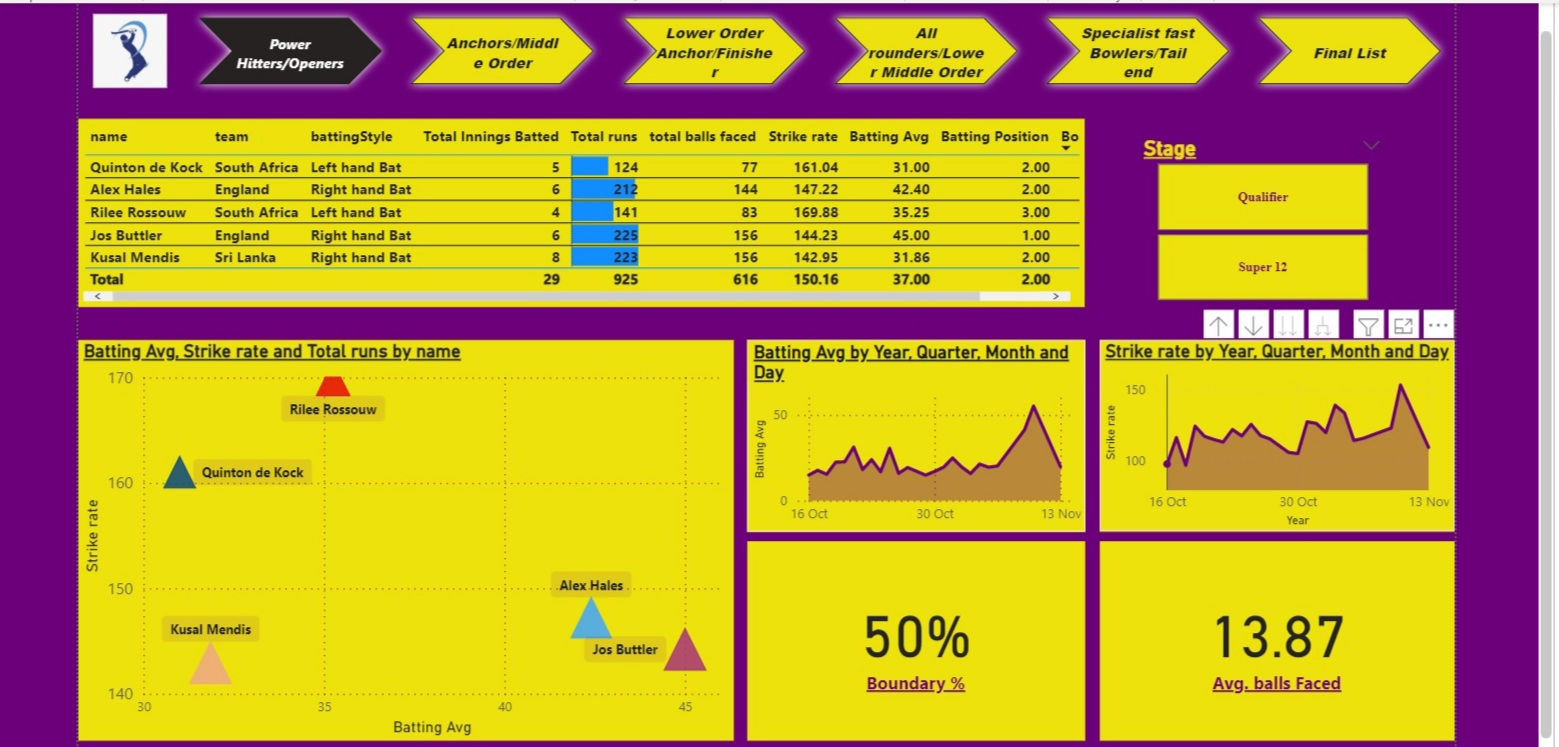

The dashboard page shown, as its layout file describes it:
{"tool":"powerbi","page":{"name":"Power Hitters/Openers","canvas":[1280,720],"ordinal":0},"visuals":[{"type":"tableEx","title":"Shortlisted players based on parameters","fields":{"Values":["dim_players.name","dim_players.team","dim_players.battingStyle","key_measures.Total Innings Batted","key_measures.Total runs","key_measures.total balls faced","key_measures.Strike rate","key_measures.Batting Avg","key_measures.Batting Position","key_measures.Boundary %"]},"box":[0,123.5,936.4,174.8],"z":0},{"type":"scatterChart","fields":{"Y":["key_measures.Strike rate"],"X":["key_measures.Batting Avg"],"Size":["key_measures.Total runs"],"Category":["dim_players.name"]},"box":[0,328.8,610,372.8],"z":1000},{"type":"areaChart","fields":{"Y":["key_measures.Batting Avg"],"Category":["dim_match_summary.matchDate.Variation.Date Hierarchy.Year","dim_match_summary.matchDate.Variation.Date Hierarchy.Quarter","dim_match_summary.matchDate.Variation.Date Hierarchy.Month","dim_match_summary.matchDate.Variation.Date Hierarchy.Day"]},"box":[622.2,328.8,314.2,178.5],"z":2000},{"type":"areaChart","fields":{"Y":["key_measures.Strike rate"],"Category":["dim_match_summary.matchDate.Variation.Date Hierarchy.Year","dim_match_summary.matchDate.Variation.Date Hierarchy.Quarter","dim_match_summary.matchDate.Variation.Date Hierarchy.Month","dim_match_summary.matchDate.Variation.Date Hierarchy.Day"]},"box":[949.8,328.8,330.1,178.5],"z":3000},{"type":"card","fields":{"Values":["key_measures.Boundary %"]},"box":[622.2,515.9,314.2,185.8],"z":4000},{"type":"card","fields":{"Values":["key_measures.Avg. balls Faced"]},"box":[949.8,515.9,330.1,185.8],"z":5000},{"type":"slicer","fields":{"Values":["dim_match_summary.Stage"]},"box":[977.9,134.5,245.7,163.8],"z":6000},{"type":"pageNavigator","box":[103.9,20.8,1176,78.2],"z":7000},{"type":"image","box":[0,20.8,95.3,78.2],"z":8000}]}

Visuals, with their boxes on the page's 1280x720 design canvas (x1, y1, x2, y2). These are canvas units, not pixel positions in the 1559x747 screenshot, which may show the page scaled, cropped or inside an application window:
"Shortlisted players based on parameters" tableEx: 0/124/936/298
scatterChart - key_measures.Strike rate x key_measures.Batting Avg: 0/329/610/702
areaChart - key_measures.Batting Avg x dim_match_summary.matchDate.Variation.Date Hierarchy.Year: 622/329/936/507
areaChart - key_measures.Strike rate x dim_match_summary.matchDate.Variation.Date Hierarchy.Year: 950/329/1280/507
card - key_measures.Boundary %: 622/516/936/702
card - key_measures.Avg. balls Faced: 950/516/1280/702
slicer - dim_match_summary.Stage: 978/134/1224/298
pageNavigator: 104/21/1280/99
image: 0/21/95/99
